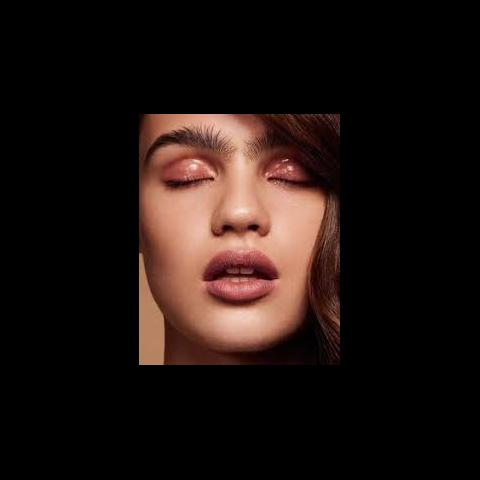closed: (142, 128, 334, 208)
